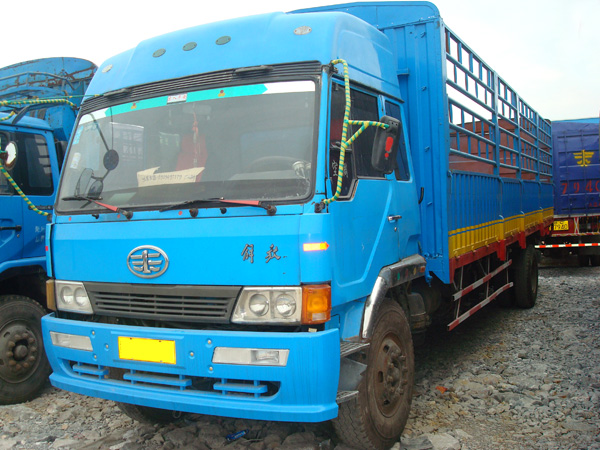truck: (9, 1, 558, 448)
